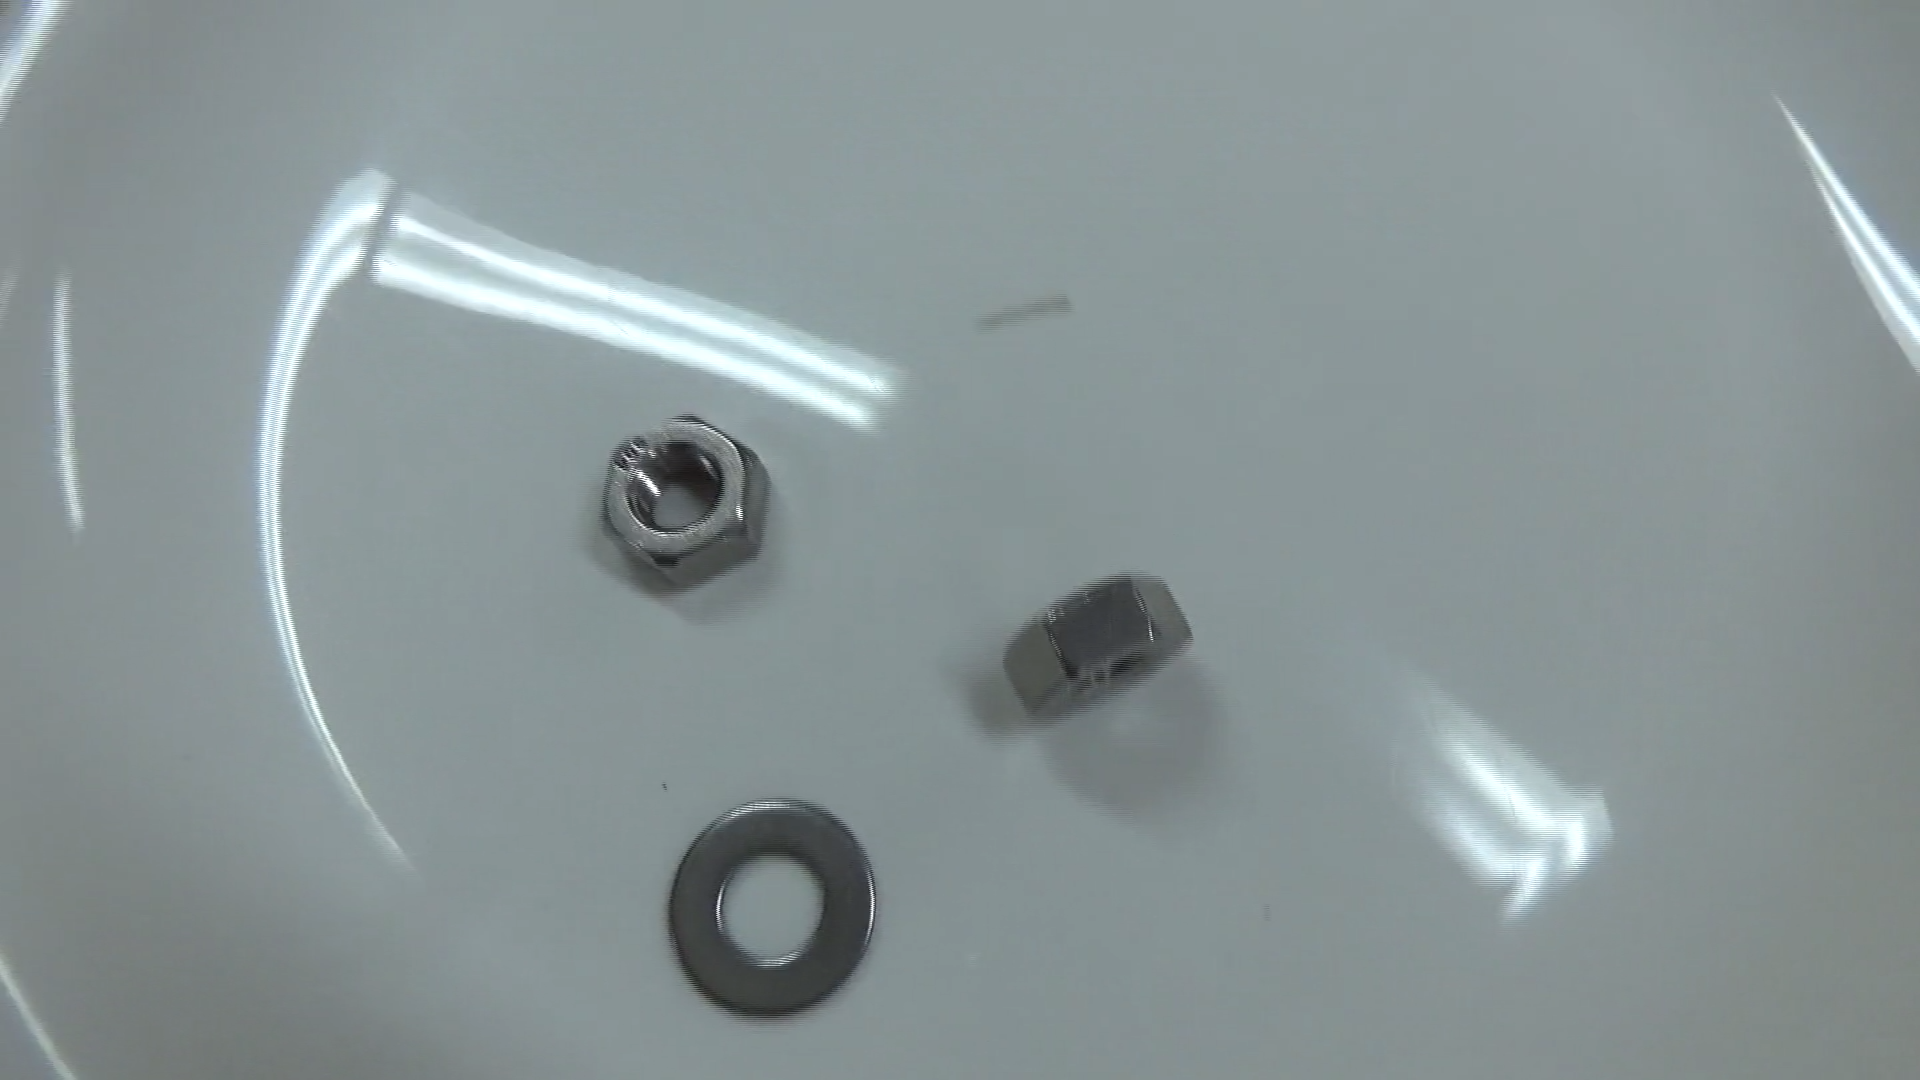nut: (583, 390, 779, 617), (989, 547, 1196, 729)
washer: (649, 779, 890, 1026)
